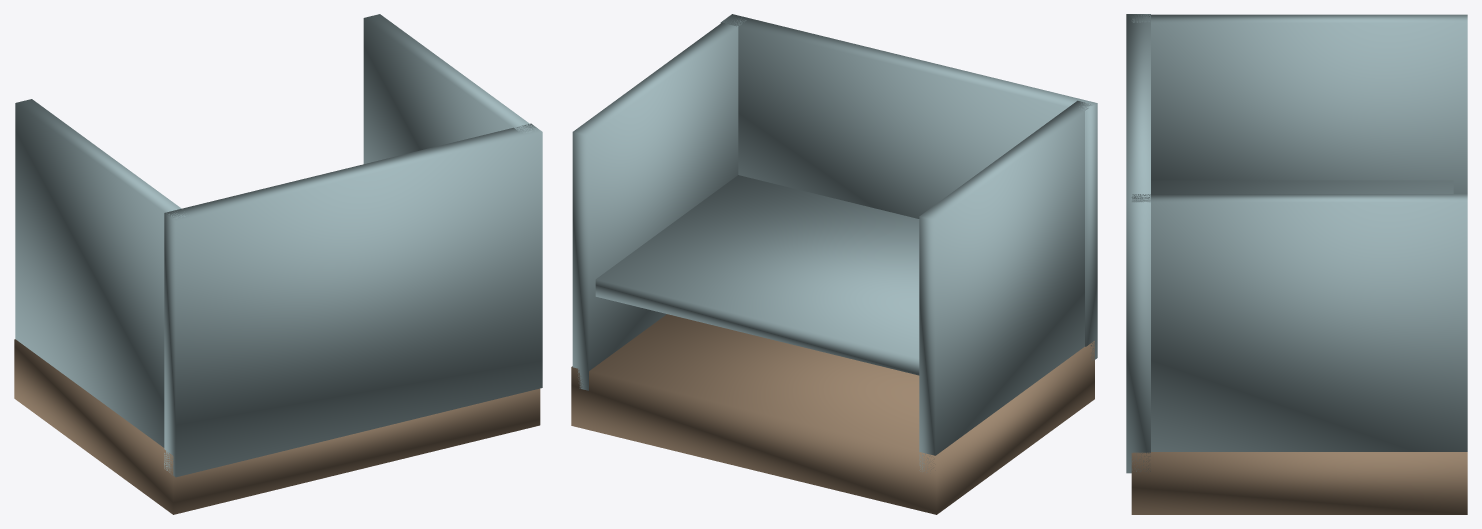
The model's file is pie_display__deep.glb.
The picture shows the model from 3 angles, left to right: view 1: azimuth 30°, elevation 25°; view 2: azimuth 150°, elevation 25°; view 3: azimuth 270°, elevation 25°; orthographic projection. The views are drawn at different scales.
Parts seen in each view (by area): view 1: world; view 2: world; view 3: world.
Boxes of the visible parts, <box> form: world: <box>14,14,542,514</box>; world: <box>571,14,1097,514</box>; world: <box>1126,14,1467,514</box>.
Size of the model in its own units: 0.78 by 0.6 by 0.5947.
